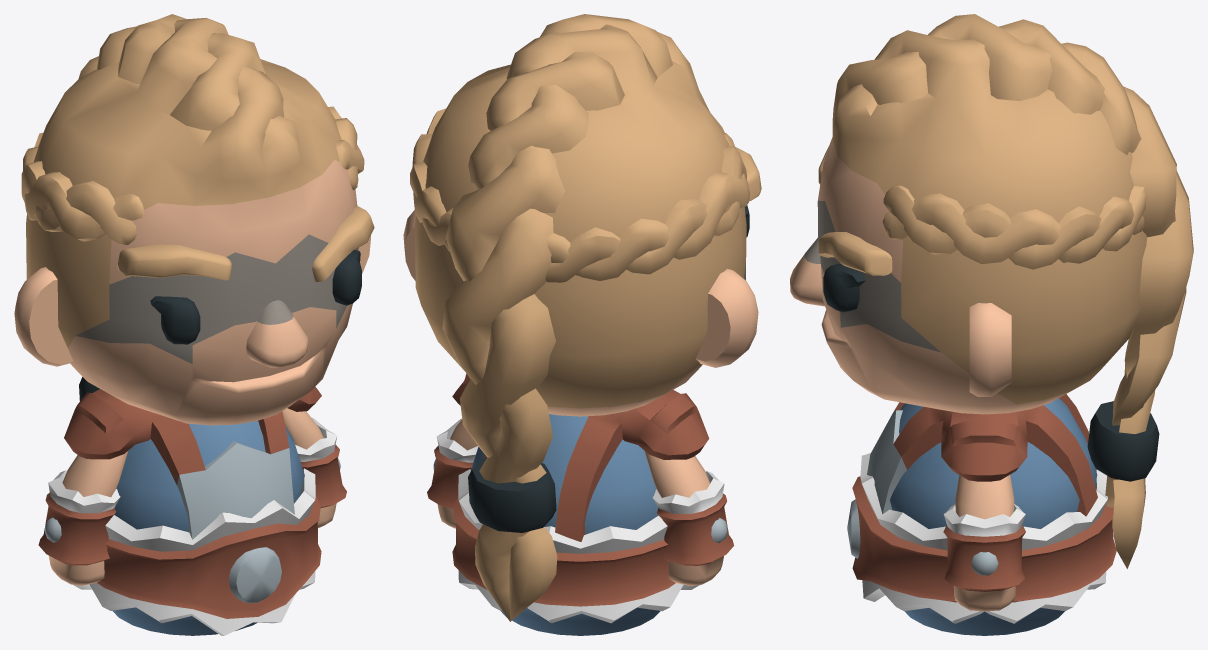
Rendered from character_viking.dae.
The picture shows the model from 3 angles, left to right: view 1: azimuth 30°, elevation 25°; view 2: azimuth 150°, elevation 25°; view 3: azimuth 270°, elevation 25°; orthographic projection.
Visible parts, largest first — view 1: character_vikingFemaleHeadA, character_vikingBody, character_vikingArmRight, character_vikingArmLeft; view 2: character_vikingFemaleHeadA, character_vikingBody, character_vikingArmRight, character_vikingArmLeft; view 3: character_vikingFemaleHeadA, character_vikingBody, character_vikingArmLeft.
Boxes of the visible parts, x1=… form: character_vikingFemaleHeadA: x1=14, y1=14, x2=374, y2=425; character_vikingBody: x1=64, y1=386, x2=321, y2=635; character_vikingArmRight: x1=38, y1=450, x2=128, y2=585; character_vikingArmLeft: x1=282, y1=408, x2=346, y2=527; character_vikingFemaleHeadA: x1=403, y1=14, x2=761, y2=621; character_vikingBody: x1=452, y1=373, x2=709, y2=635; character_vikingArmRight: x1=644, y1=451, x2=733, y2=586; character_vikingArmLeft: x1=427, y1=418, x2=478, y2=528; character_vikingFemaleHeadA: x1=790, y1=14, x2=1193, y2=568; character_vikingBody: x1=847, y1=394, x2=1116, y2=635; character_vikingArmLeft: x1=943, y1=475, x2=1025, y2=611.
Size of the model in its own units: 1.18 by 1.17 by 1.83.
